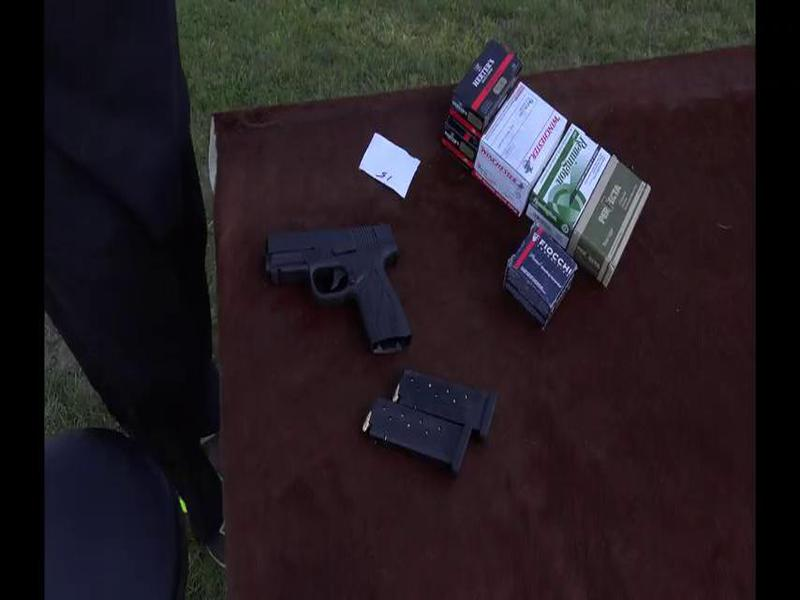Pistola: (254, 216, 420, 360)
